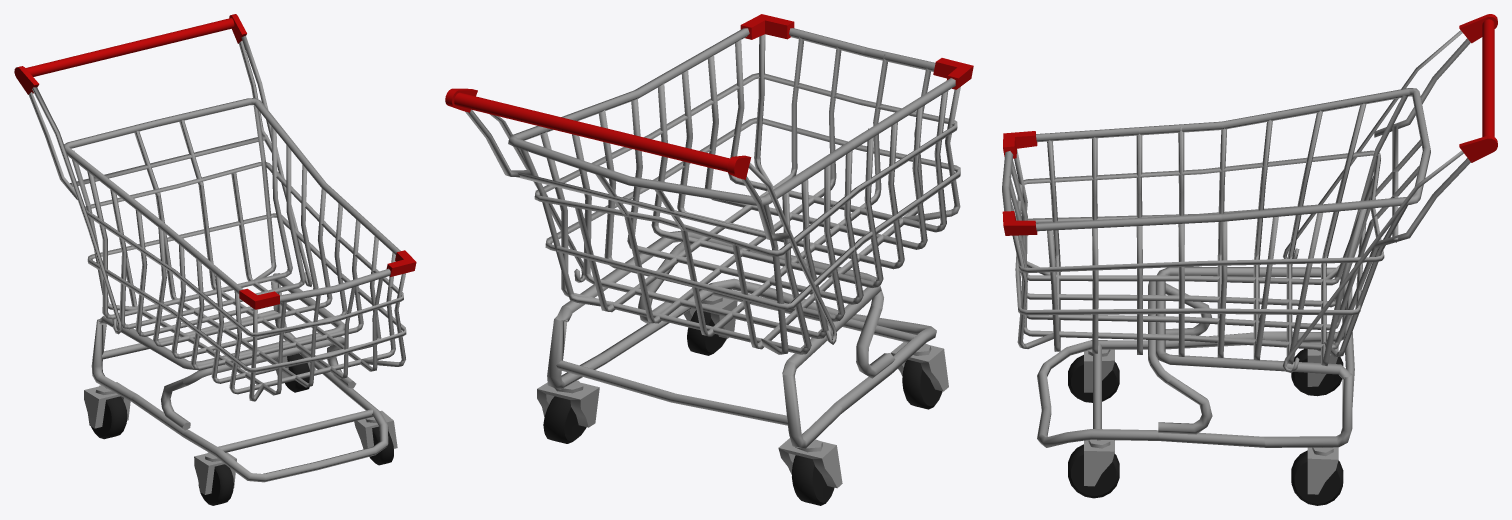
Rendered from Cart.fbx.
3 renders of one model, left to right at view 1: azimuth 30°, elevation 25°; view 2: azimuth 150°, elevation 25°; view 3: azimuth 270°, elevation 25°, orthographic. The views are drawn at different scales.
Visible parts, largest first — view 1: Cart; view 2: Cart; view 3: Cart.
Part boxes in pixels (x1=…): Cart: x1=14, y1=14, x2=416, y2=505; Cart: x1=445, y1=14, x2=973, y2=505; Cart: x1=1002, y1=14, x2=1497, y2=505.
Size of the model in its own units: 71.96 by 97.96 by 119.
2 materials, 1 textured.
